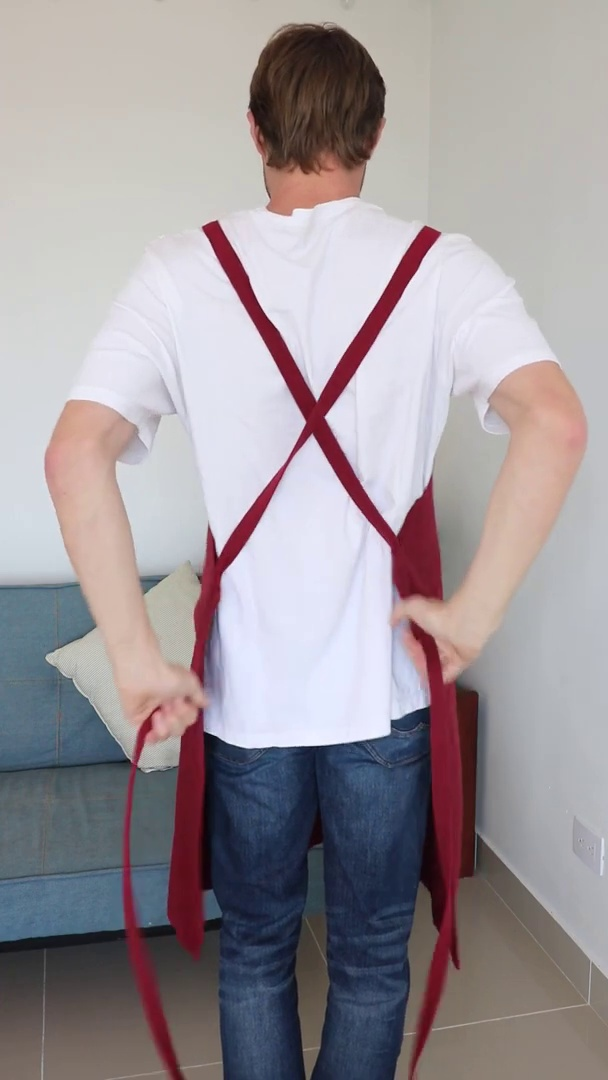Apron: (193, 215, 447, 732)
No_Glove: (388, 591, 494, 692), (114, 667, 213, 746)
No_Hairnet: (242, 20, 390, 178)
